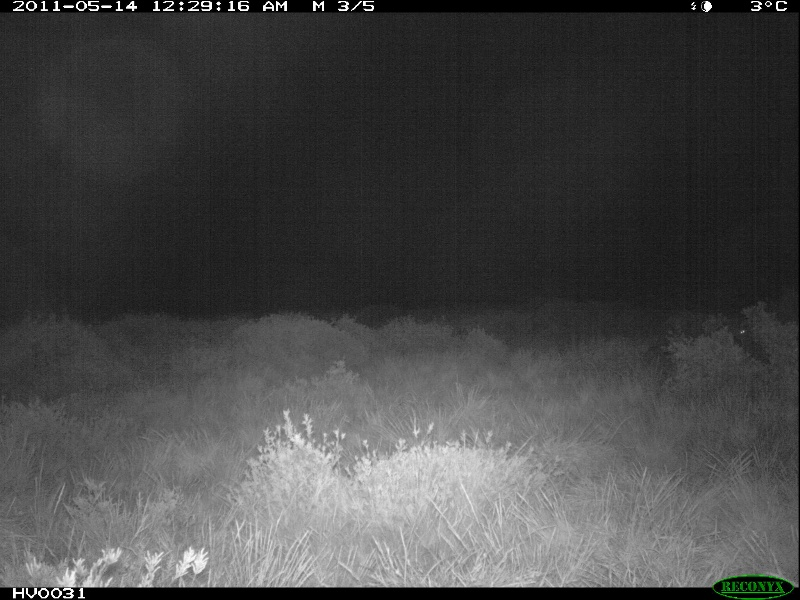fox: (664, 312, 752, 351)
